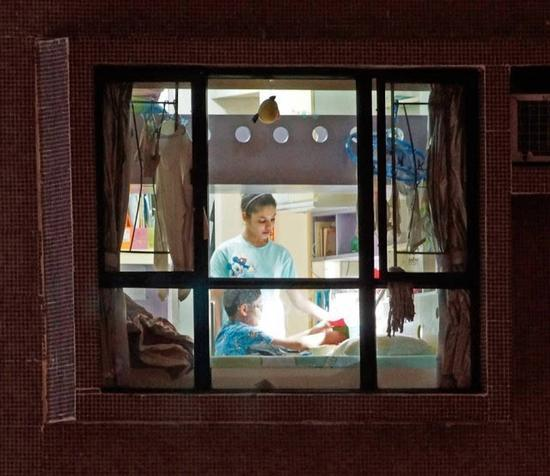face: (249, 207, 276, 238), (246, 294, 262, 327)
specialarea: (260, 218, 272, 226)
